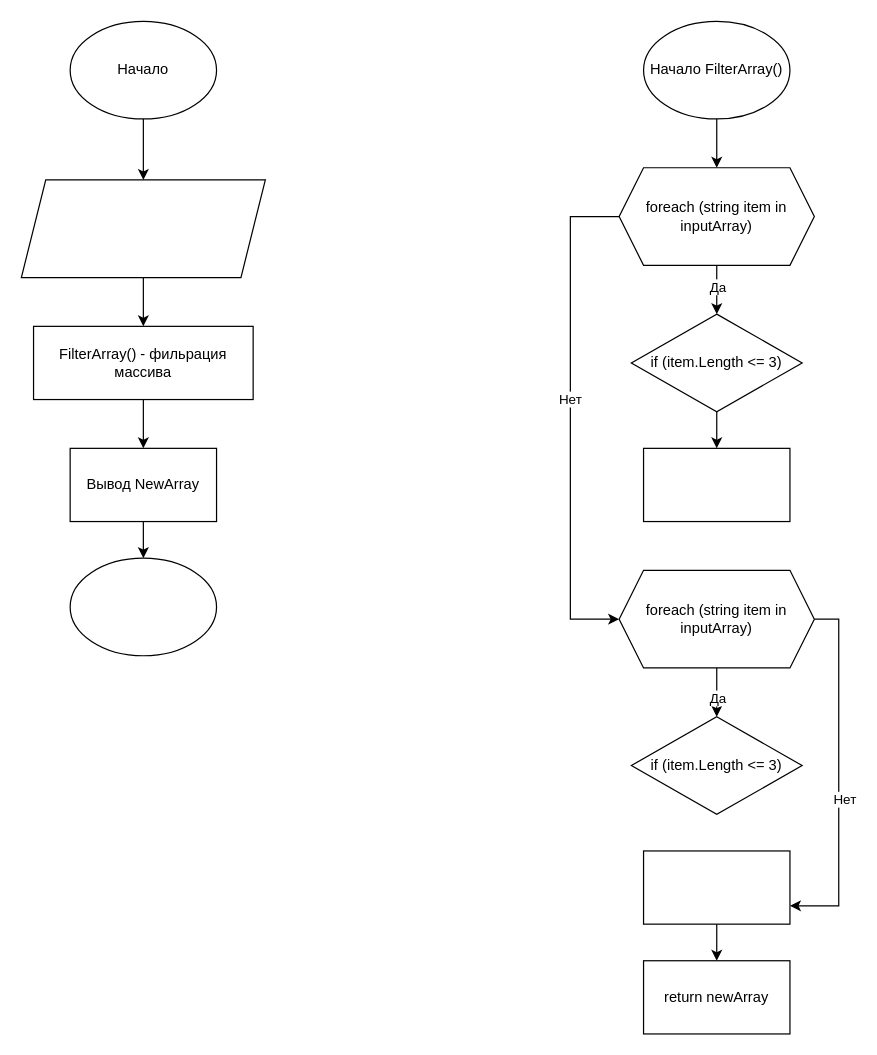
The diagram is 877 pixels wide and 1055 high, and some of its shapes have lost their labels. The shapes that lost their labels are listed below. From the top down, each one's box as (x1, y1, x2, y2) in pixels, then its label:
(20, 179, 265, 278): inputArray - массив вводимый пользователем
(642, 447, 790, 522): count++
(69, 557, 217, 656): Конец
(642, 850, 790, 924): newArray[index] = item; index++
